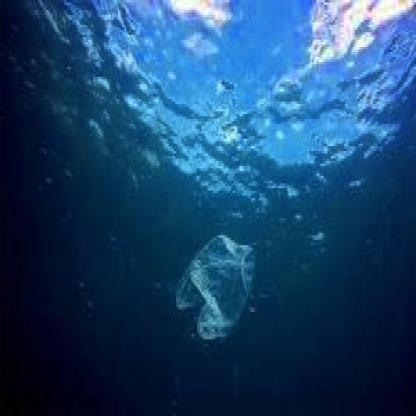pbag: (171, 226, 259, 344)
